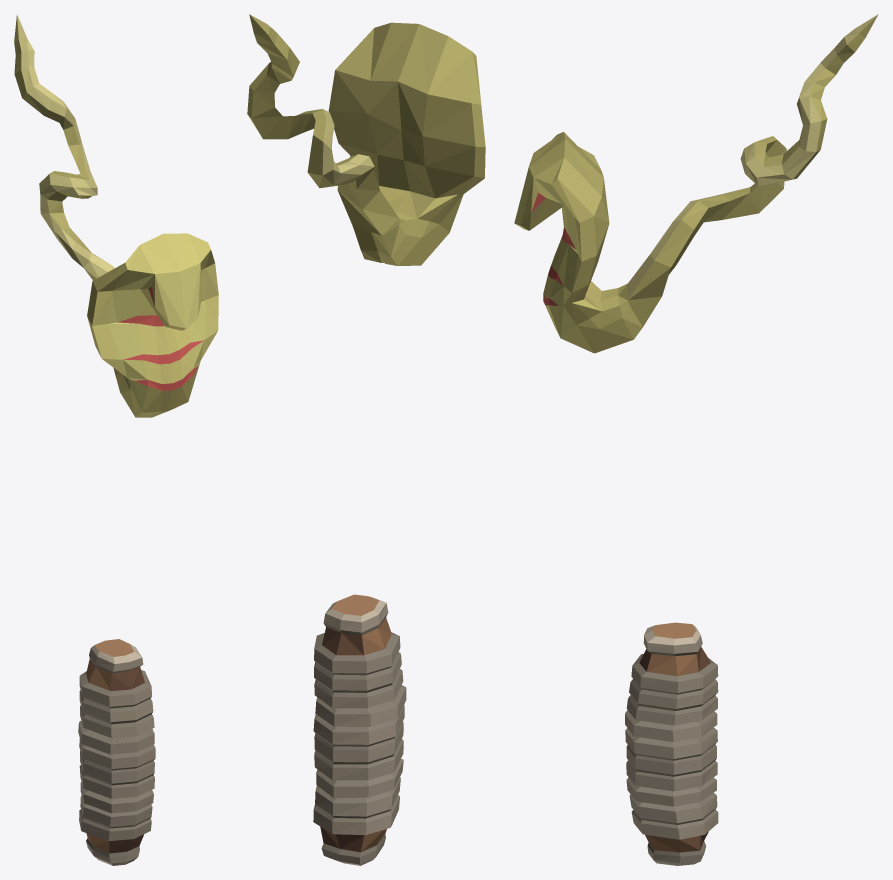
The model's file is smallBowAncientEgyptianSimpleHandle.glb.
3 views of the same model, side by side, from view 1: azimuth 30°, elevation 25°; view 2: azimuth 150°, elevation 25°; view 3: azimuth 270°, elevation 25° (orthographic). The views are drawn at different scales.
Visible parts, largest first — view 1: smallBowAncientEgyptianSimpleHandle; view 2: smallBowAncientEgyptianSimpleHandle; view 3: smallBowAncientEgyptianSimpleHandle.
Part boxes in pixels (<box>): smallBowAncientEgyptianSimpleHandle: <box>14,14,218,865</box>; smallBowAncientEgyptianSimpleHandle: <box>247,14,485,865</box>; smallBowAncientEgyptianSimpleHandle: <box>514,14,878,865</box>.
Bounding box in the file's own units: 0.0883 × 0.5168 × 0.2028.
